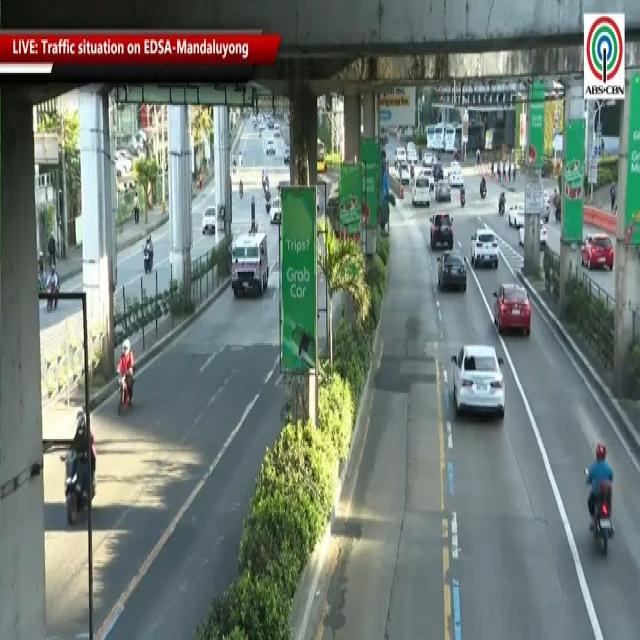car: (452, 336, 508, 418), (489, 276, 530, 332), (432, 247, 472, 290), (472, 223, 501, 270), (428, 210, 459, 249), (412, 176, 433, 211)
motorbike: (584, 434, 616, 557), (65, 410, 95, 530), (117, 337, 136, 416), (46, 262, 60, 315), (143, 232, 153, 274)
truck: (231, 232, 270, 300)
